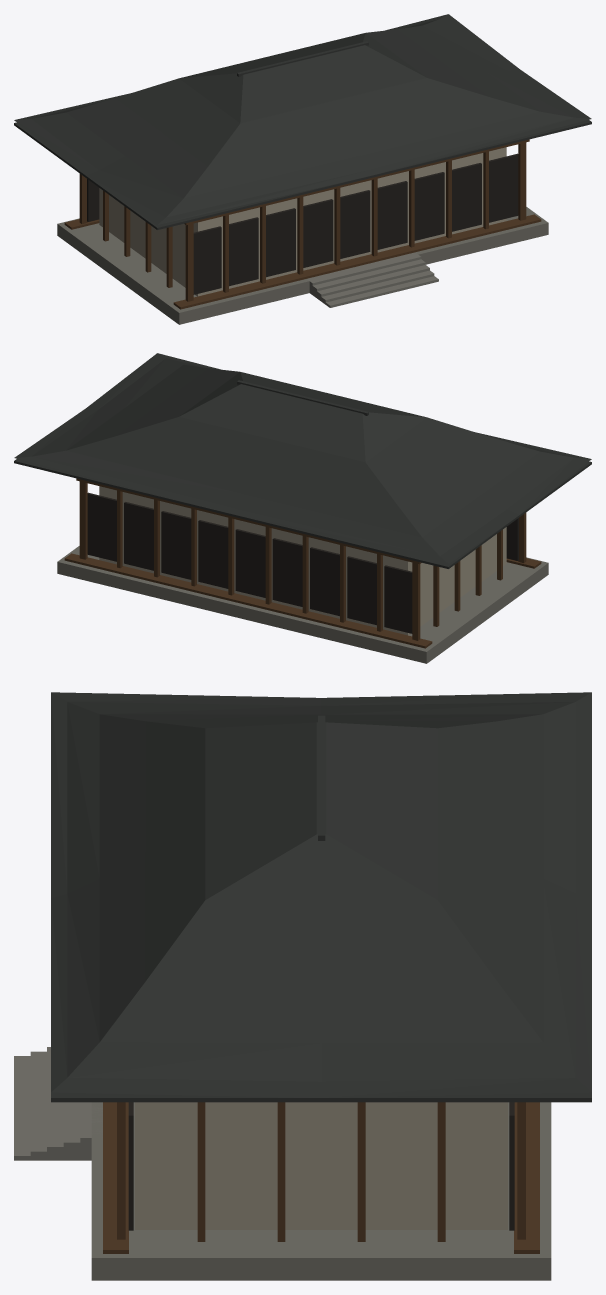
Rendered from tojiKodo.glb.
3 views of the same model, one above another, from view 1: azimuth 30°, elevation 25°; view 2: azimuth 150°, elevation 25°; view 3: azimuth 270°, elevation 25° (orthographic). The views are drawn at different scales.
Bounding box in the file's own units: 45.72 × 17.84 × 27.91.
